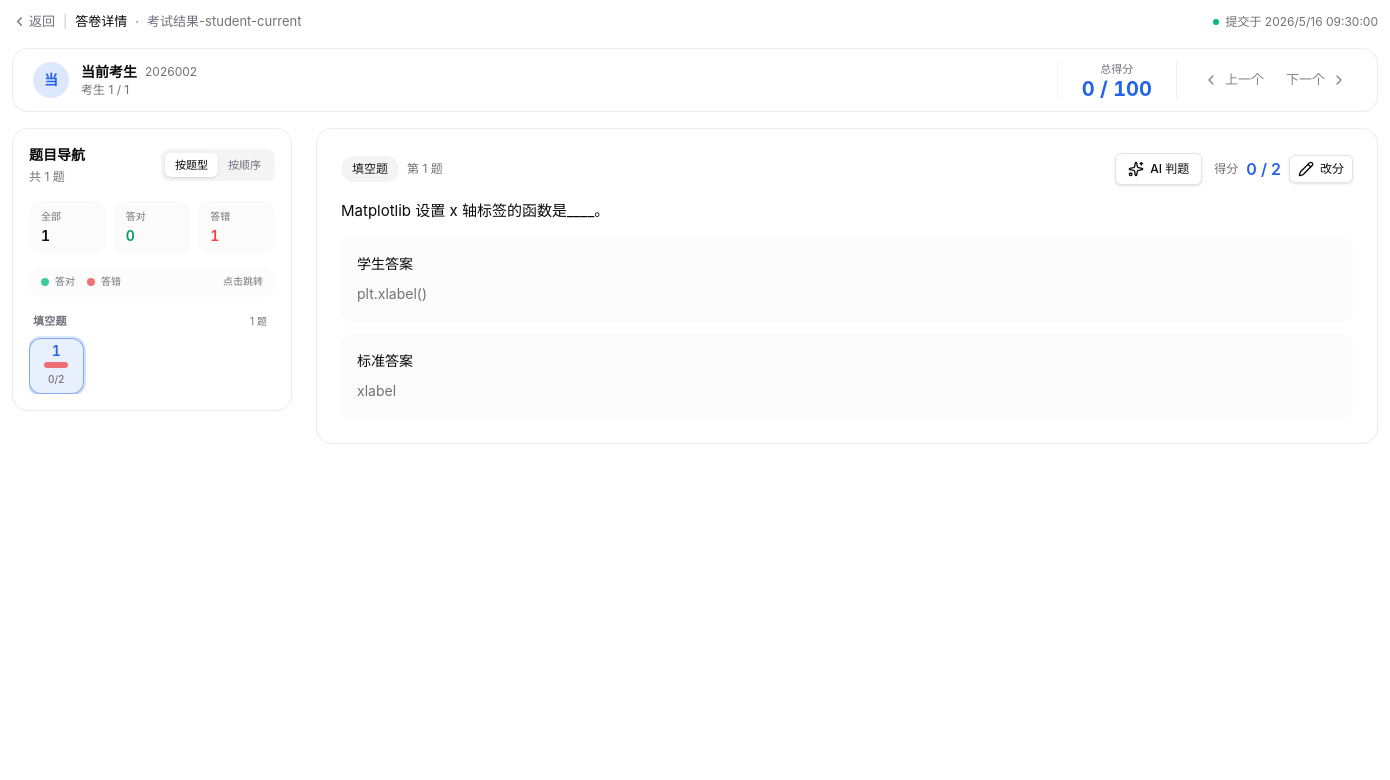
it: StudentAnswerPage › merges the AI 判题 response into just the target question without re-fetching
Expected: the text "0 / 2" is shown, [1246,157,1281,181]
Click the button "AI 判题" at (1159, 169), box [1115,153,1202,185]
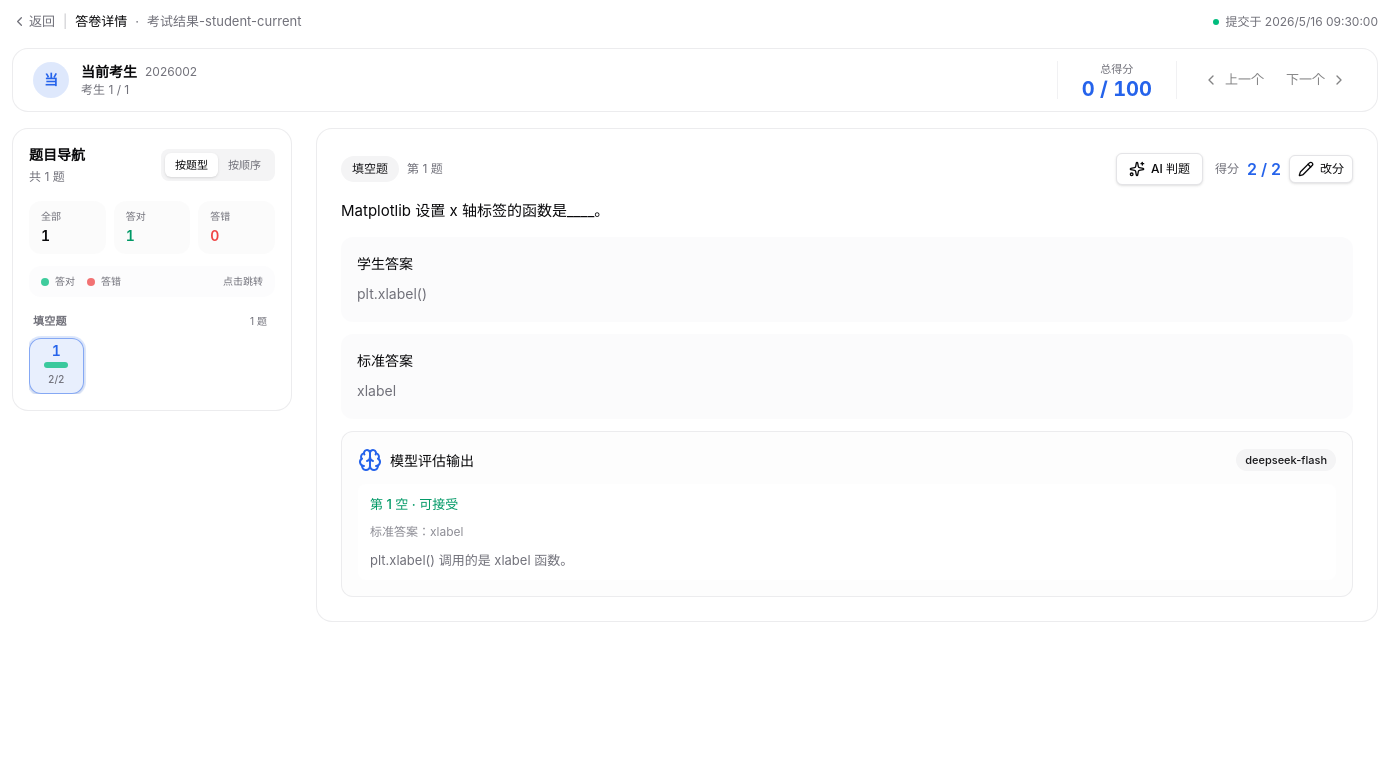
Now the text "2 / 2" is shown, box [1247,157,1281,181]
Now the text "模型评估输出" is shown, box [358,448,474,472]
Now the text "plt.xlabel() 调用的是 xlabel 函数。" is shown, box [370,552,573,568]
